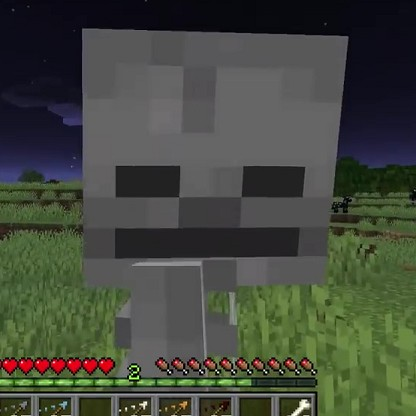skeleton: (78, 23, 349, 357)
